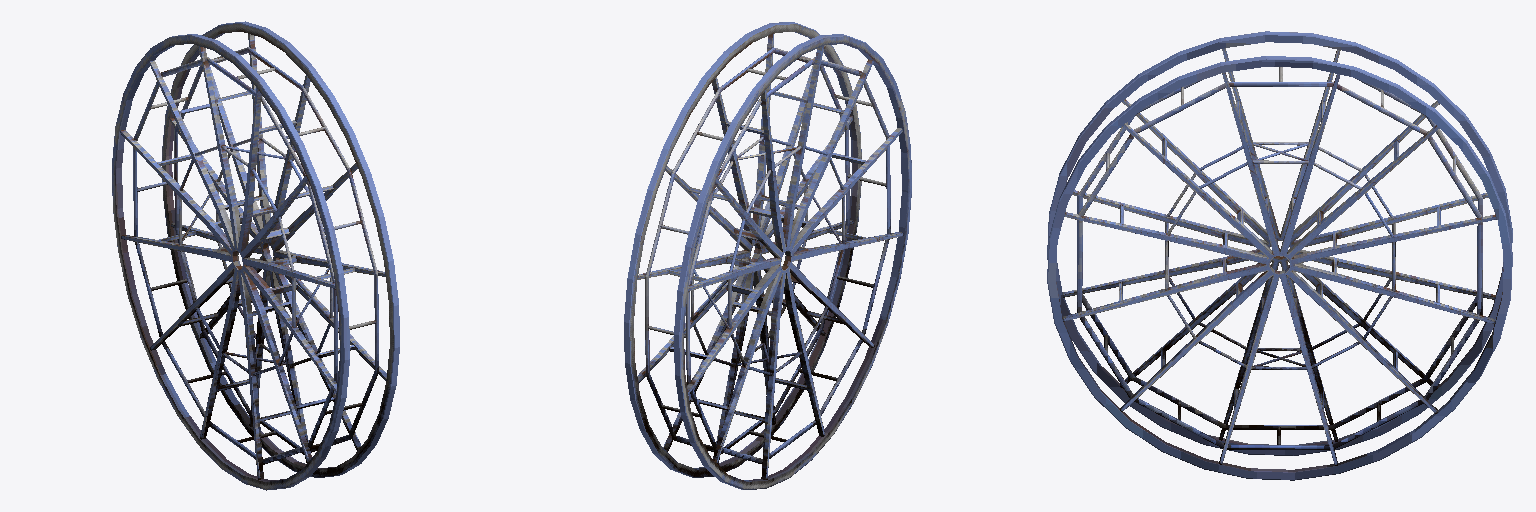
3 renders of one model, left to right at view 1: azimuth 30°, elevation 25°; view 2: azimuth 150°, elevation 25°; view 3: azimuth 270°, elevation 25°, orthographic.
Parts seen in each view (by area): view 1: Arm001_T_ArmsNStuff_0; view 2: Arm001_T_ArmsNStuff_0; view 3: Arm001_T_ArmsNStuff_0.
Boxes of the visible parts, <box> form: Arm001_T_ArmsNStuff_0: <box>112,21,399,490</box>; Arm001_T_ArmsNStuff_0: <box>624,22,911,489</box>; Arm001_T_ArmsNStuff_0: <box>1047,31,1512,480</box>.
Bounding box in the file's own units: 3.2 × 22.89 × 22.89.
Materials: 1 (1 with a texture image).